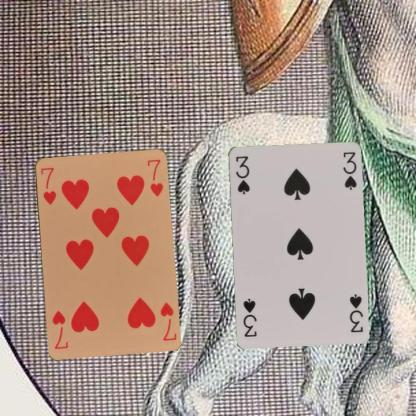3s: (233, 153, 251, 195), (346, 292, 364, 334)
7h: (157, 298, 177, 342), (38, 164, 57, 206)
